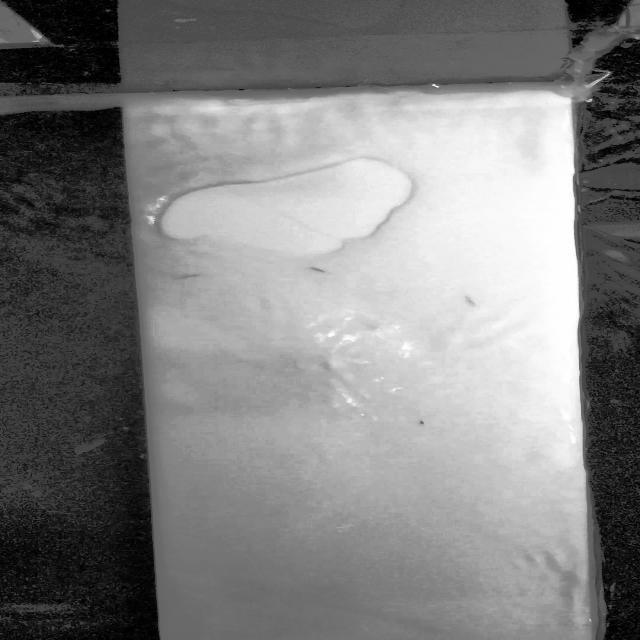shrimp: (449, 292, 498, 312), (300, 263, 346, 281), (401, 416, 446, 433)
